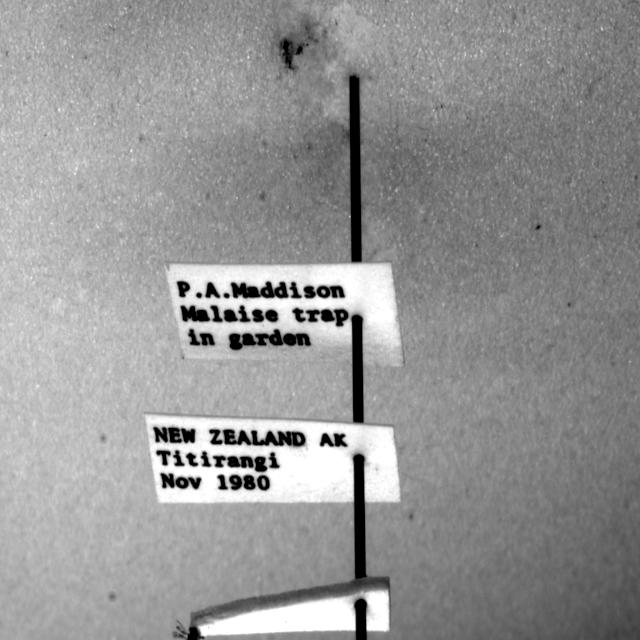typed_label: (166, 262, 404, 366), (145, 414, 400, 502)
